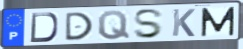D: (29, 12, 60, 43), (64, 11, 95, 42)
K: (170, 8, 197, 38)
M: (200, 6, 237, 38)
Q: (97, 9, 132, 41)
S: (133, 8, 166, 40)
